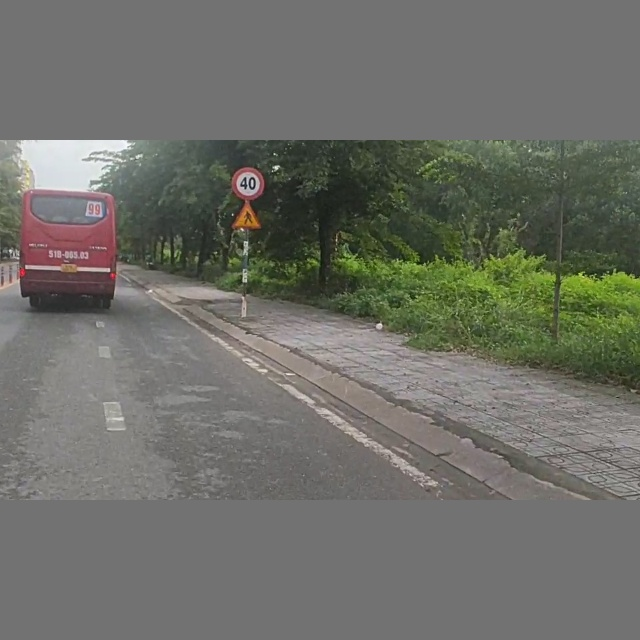P.127*40: (231, 165, 266, 201)
W.224: (230, 203, 264, 230)
